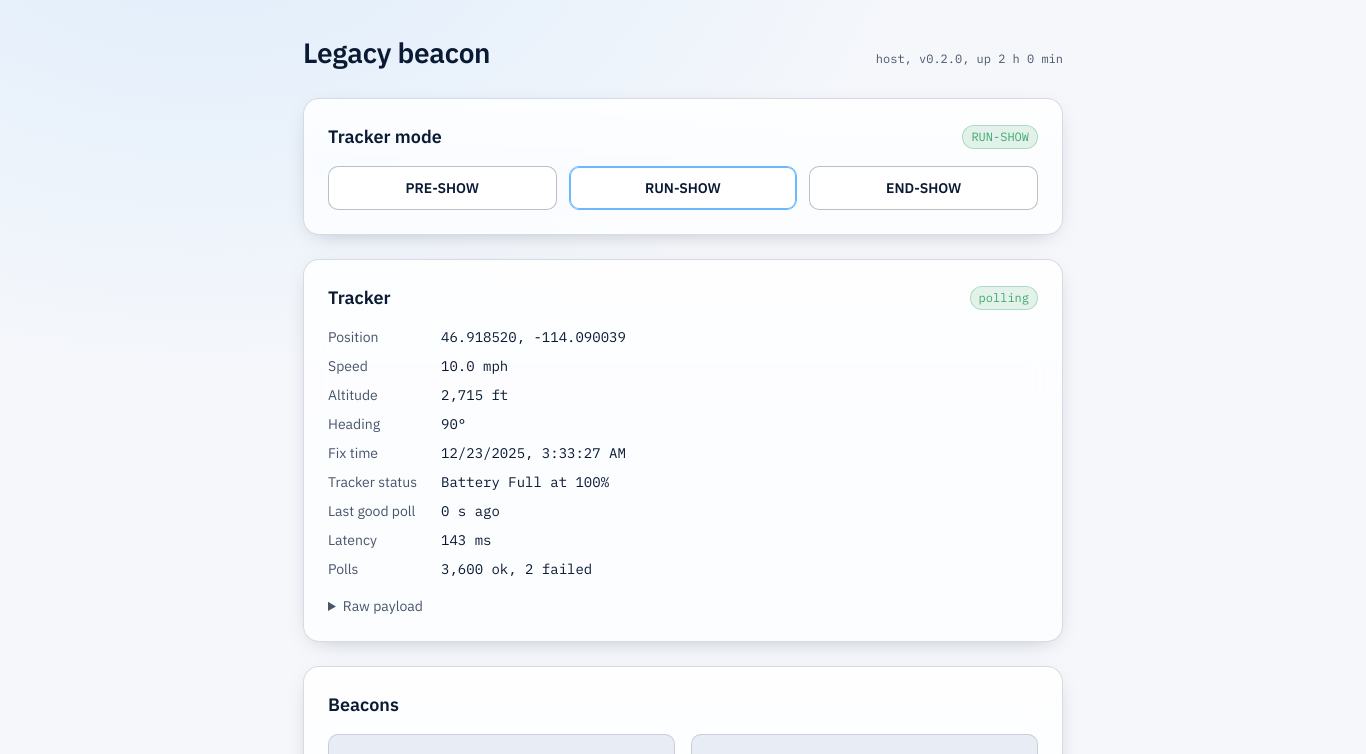
it: App (legacy-beacon.md 4) › a mode button asks first and sends only on Confirm
Later steps or results of the test are not shown.
Expected: the text "RUN-SHOW" is shown, [962,124,1038,148]
What coordinates should you click on to do the following:
click the button "END-SHOW"
I would click on:
 (924, 188)
Its box is [809,166,1038,210].
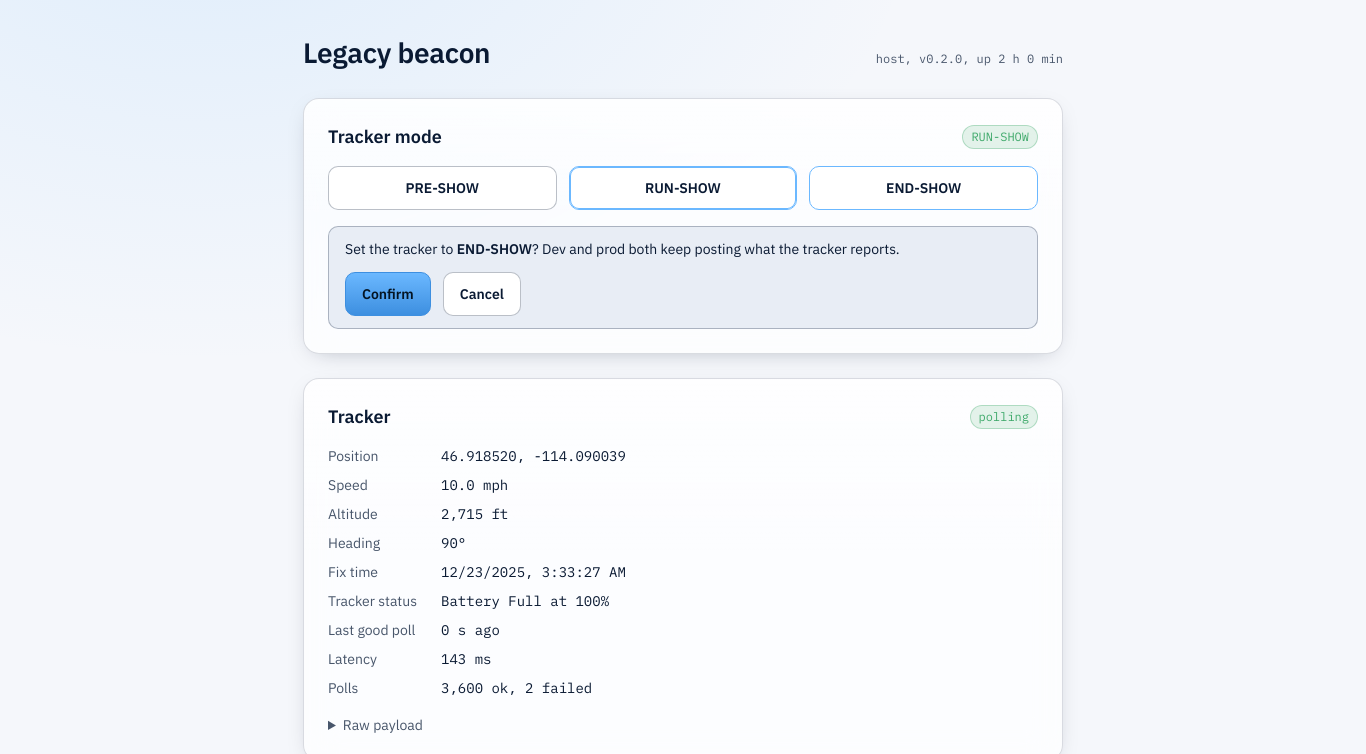
Now the dialog shows "END-SHOW", box [457,240,532,258]
What coordinates should you click on to do the following:
click the button "Cancel"
I would click on:
 (482, 294)
Its box is [443,272,521,316].
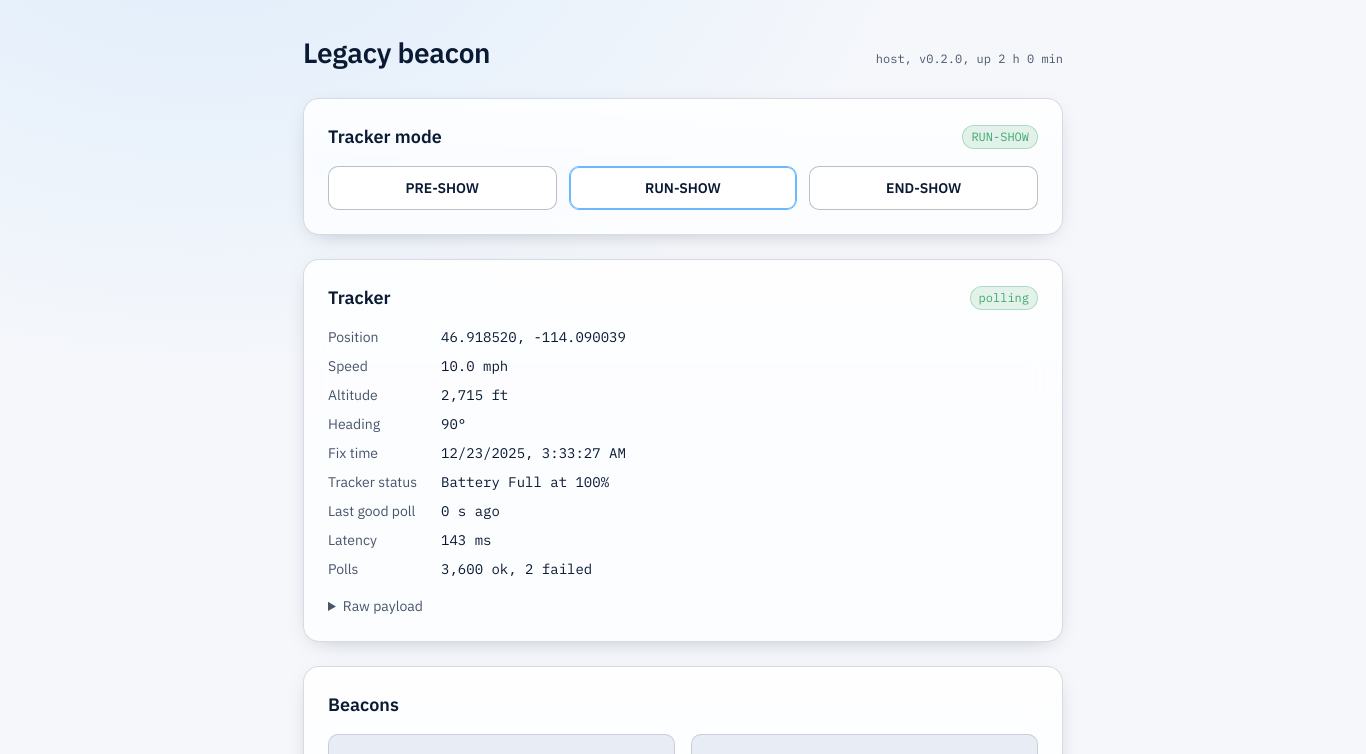
Now the dialog is gone
